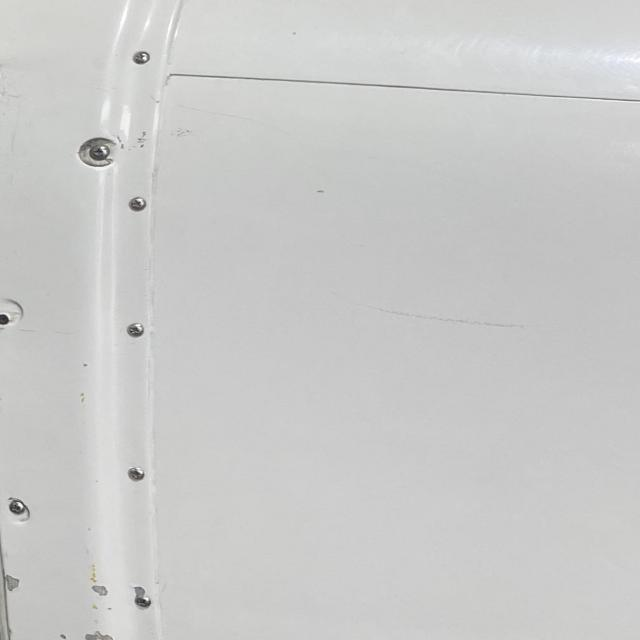Paint-off: (159, 110, 209, 151), (134, 587, 152, 609), (133, 129, 151, 150), (312, 184, 332, 200), (114, 136, 132, 153), (3, 575, 21, 592), (91, 584, 110, 598), (85, 633, 116, 640), (54, 632, 74, 640)
